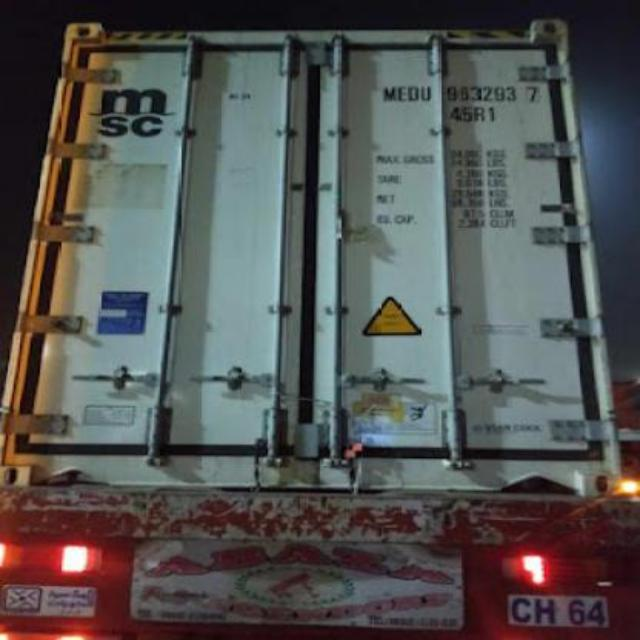2: (481, 80, 494, 100)
3: (504, 76, 518, 108), (468, 79, 480, 105)
6: (456, 81, 468, 102)
7: (522, 79, 542, 105)
9: (442, 80, 456, 102), (494, 80, 506, 104)
D: (406, 80, 418, 106)
E: (396, 84, 408, 106)
M: (378, 76, 398, 108)
U: (418, 79, 432, 105)
